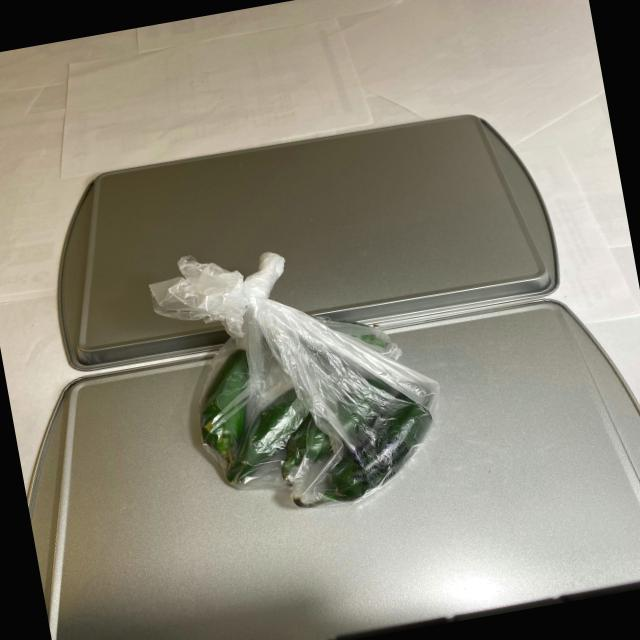chilli: (185, 314, 454, 530)
